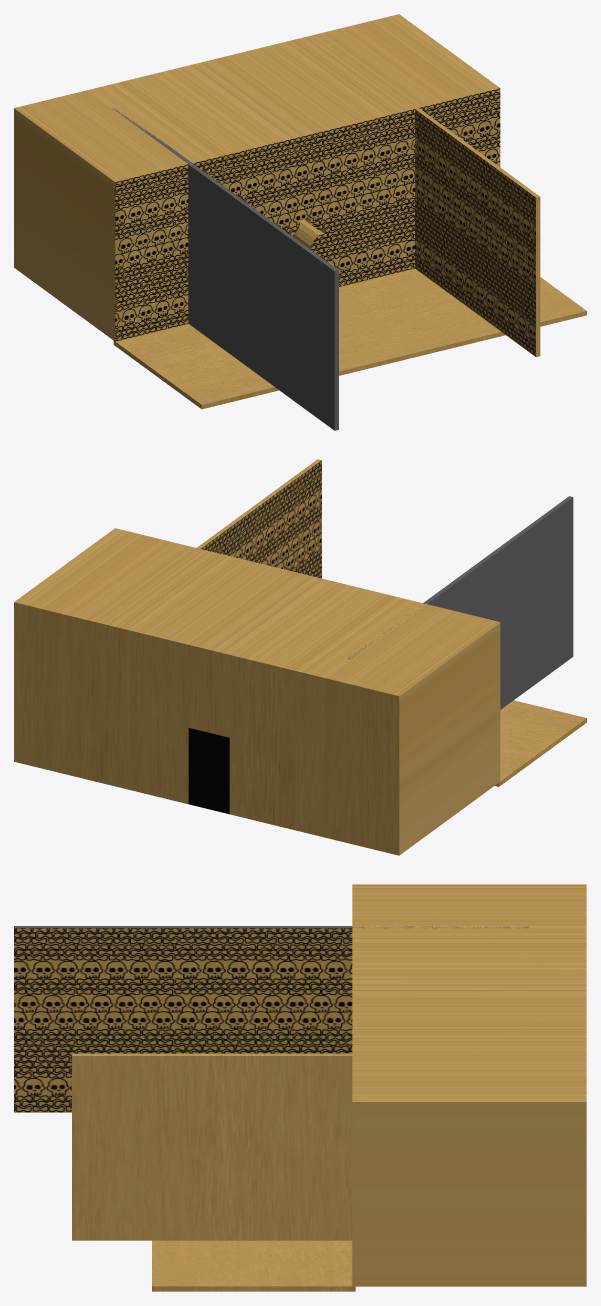
File: Adventurer Tutorial Level.fbx
3 views of the same model, one above another, from view 1: azimuth 30°, elevation 25°; view 2: azimuth 150°, elevation 25°; view 3: azimuth 270°, elevation 25° (orthographic). The views are drawn at different scales.
Visible parts, largest first — view 1: Adventurer_Background_Wall, Adventurer_Back_Wall1, Adventurer_Back_Wall2, Adventurer_Ground; view 2: Adventurer_Background_Wall, Adventurer_Back_Wall1, Adventurer_Back_Wall2, Adventurer_Ground; view 3: Adventurer_Background_Wall, Adventurer_Back_Wall2, Adventurer_Back_Wall1, Adventurer_Ground.
Part boxes in pixels (box(x1,y1,x2,y2)): Adventurer_Background_Wall: box(14, 14, 500, 341); Adventurer_Back_Wall1: box(113, 108, 338, 430); Adventurer_Back_Wall2: box(314, 34, 540, 357); Adventurer_Ground: box(113, 268, 586, 409); Adventurer_Background_Wall: box(14, 528, 500, 855); Adventurer_Back_Wall1: box(348, 496, 573, 709); Adventurer_Back_Wall2: box(96, 459, 321, 622); Adventurer_Ground: box(495, 700, 586, 786); Adventurer_Background_Wall: box(352, 884, 586, 1286); Adventurer_Back_Wall2: box(72, 1053, 579, 1240); Adventurer_Back_Wall1: box(14, 926, 528, 1112); Adventurer_Ground: box(152, 1240, 355, 1291).
Bounding box in the file's own units: 273 × 111 × 304.
4 materials, 2 textured.
